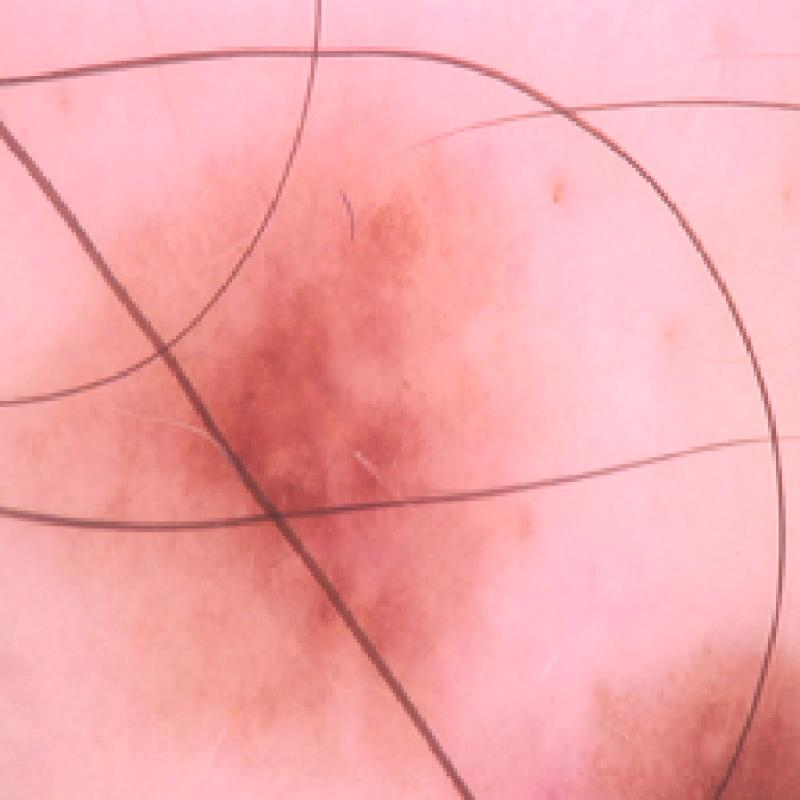benign: (129, 159, 559, 638)
